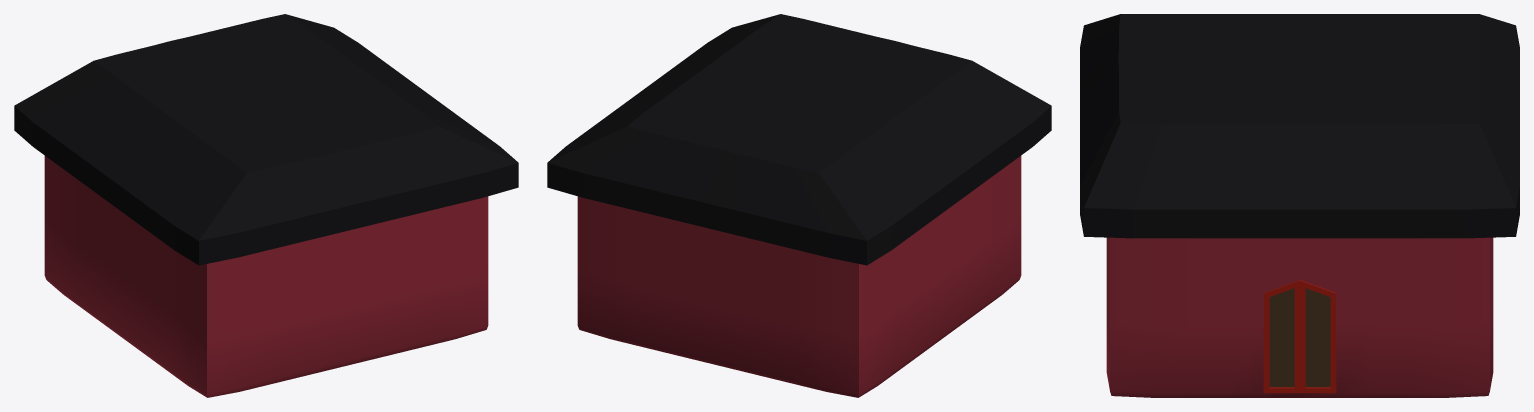
File: MazeHouse.FBX
3 views of the same model, side by side, from view 1: azimuth 30°, elevation 25°; view 2: azimuth 150°, elevation 25°; view 3: azimuth 270°, elevation 25° (orthographic). The views are drawn at different scales.
Visible parts, largest first — view 1: Building; view 2: Building; view 3: Building, DoorLeft, DoorRight.
Boxes of the visible parts, x1=… form: Building: x1=14, y1=14, x2=518, y2=397; Building: x1=547, y1=14, x2=1051, y2=397; Building: x1=1080, y1=14, x2=1519, y2=397; DoorLeft: x1=1263, y1=280, x2=1300, y2=393; DoorRight: x1=1300, y1=280, x2=1336, y2=393.
Size of the model in its own units: 17.58 by 11.11 by 17.58.
